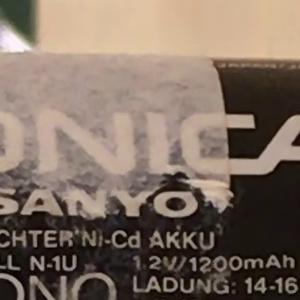NI-CD: (66, 221, 136, 255)
